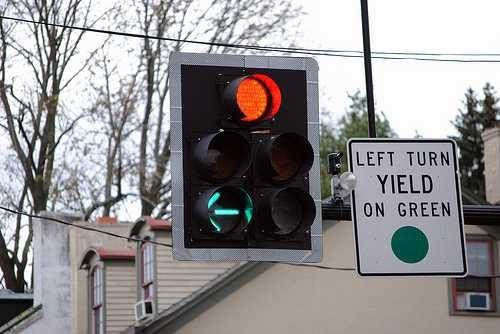green: (192, 182, 256, 242)
red: (228, 68, 287, 126)
